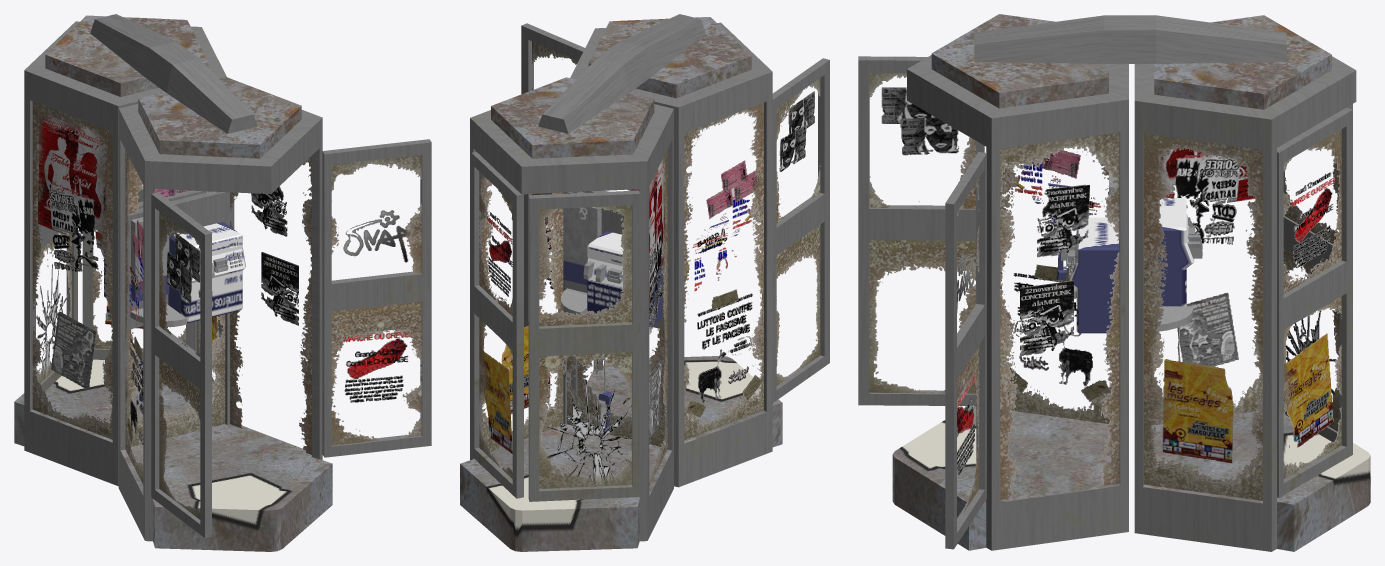
Rendered from cabine.obj.
3 views of the same model, side by side, from view 1: azimuth 30°, elevation 25°; view 2: azimuth 150°, elevation 25°; view 3: azimuth 270°, elevation 25° (orthographic). The views are drawn at different scales.
Parts seen in each view (by area): view 1: Cabine_Plane; view 2: Cabine_Plane; view 3: Cabine_Plane.
Boxes of the visible parts, bbox=[...] form: Cabine_Plane: bbox=[14, 14, 431, 551]; Cabine_Plane: bbox=[460, 14, 829, 551]; Cabine_Plane: bbox=[858, 14, 1370, 551].
Size of the model in its own units: 4.06 by 6.1 by 5.91.
Materials: 4 (4 with a texture image).
